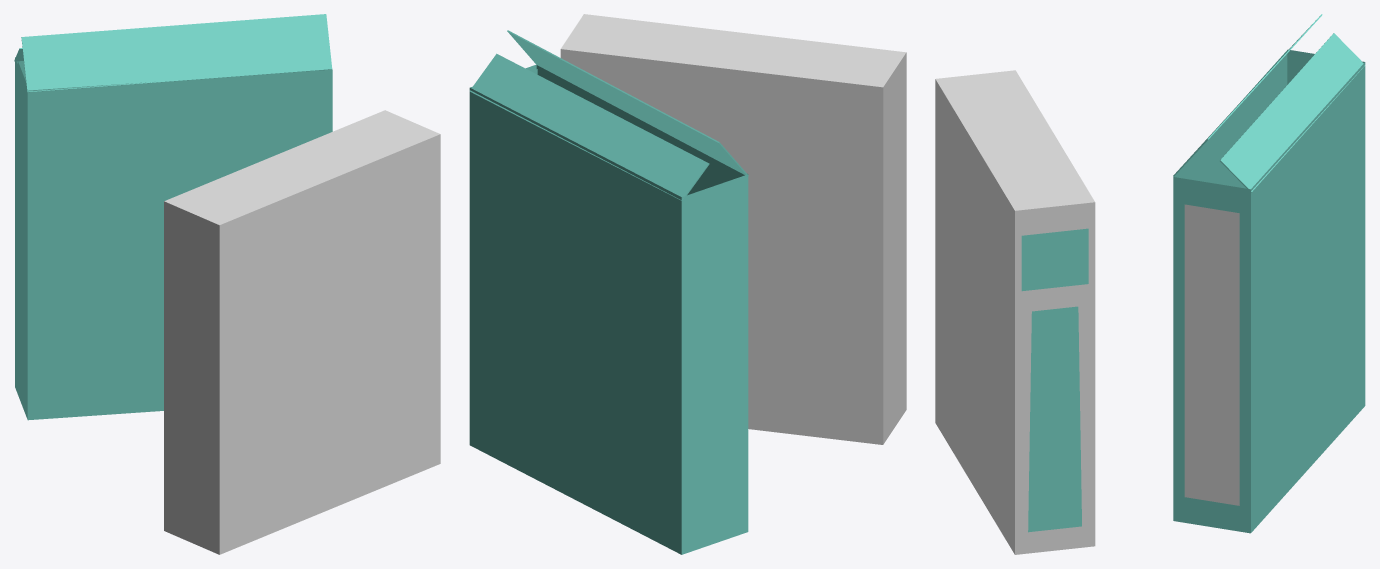
Rendered from Cuisine_boites.fbx.
The picture shows the model from 3 angles, left to right: view 1: azimuth 30°, elevation 25°; view 2: azimuth 150°, elevation 25°; view 3: azimuth 270°, elevation 25°; orthographic projection. The views are drawn at different scales.
Parts seen in each view (by area): view 1: boite_1, boite_2; view 2: boite_2, boite_1; view 3: boite_2, boite_1.
Part boxes in pixels (x1,y1,x2,y2): boite_1: (164,110,440,554); boite_2: (14,14,332,420); boite_2: (469,30,748,554); boite_1: (560,14,906,444); boite_2: (1173,14,1365,533); boite_1: (935,70,1095,554).
Size of the model in its own units: 39.36 by 51.61 by 49.72.
